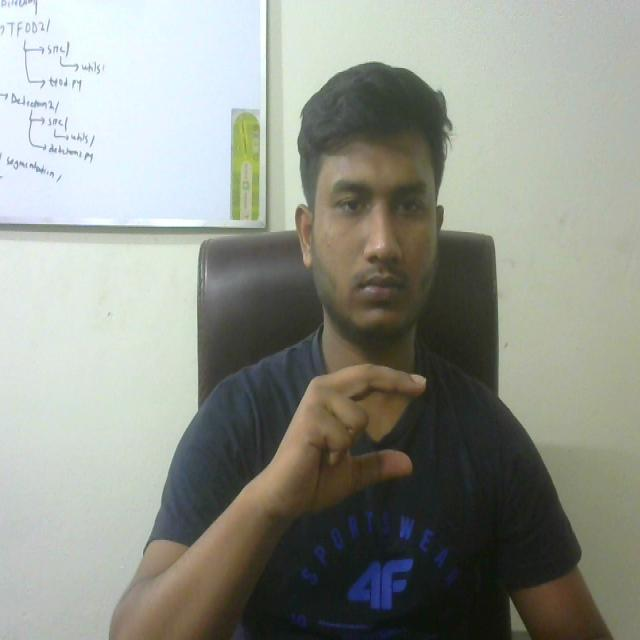No: (246, 356, 434, 521)
